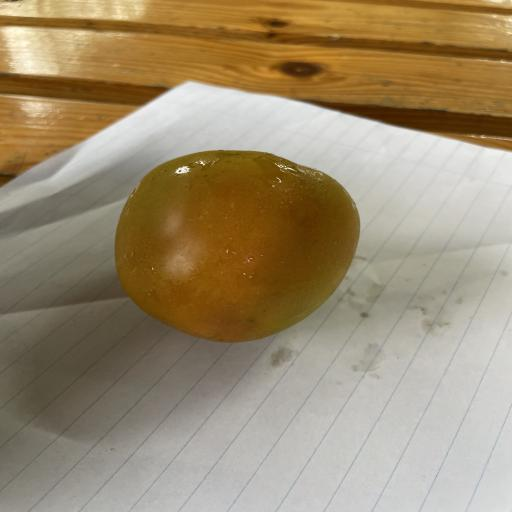unripe: (115, 151, 360, 342)
